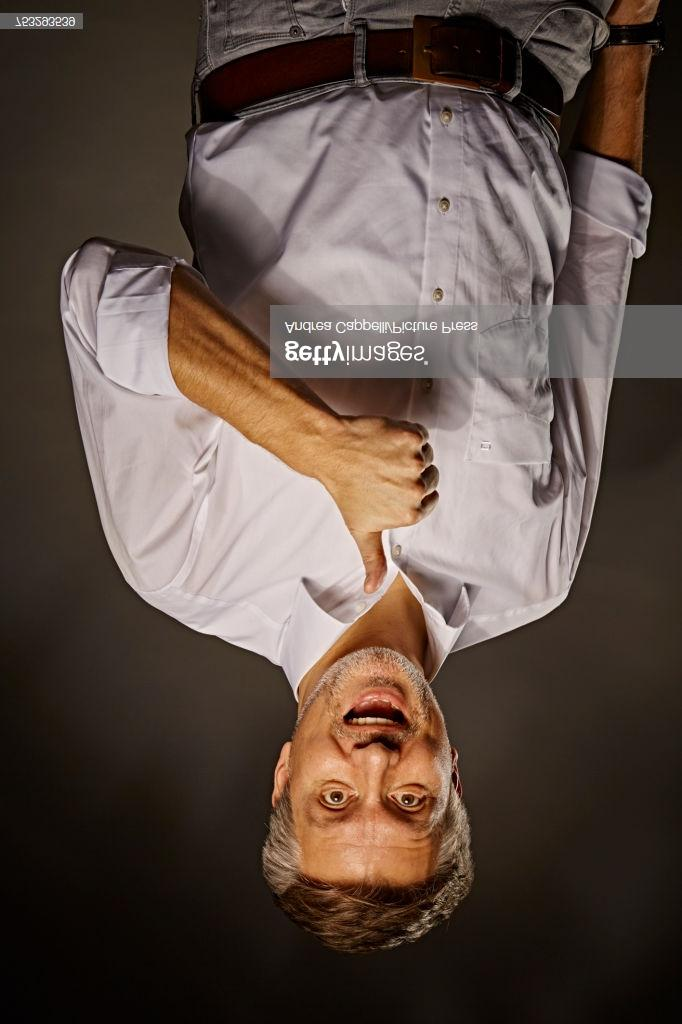thumbsdown: (353, 418, 439, 594)
